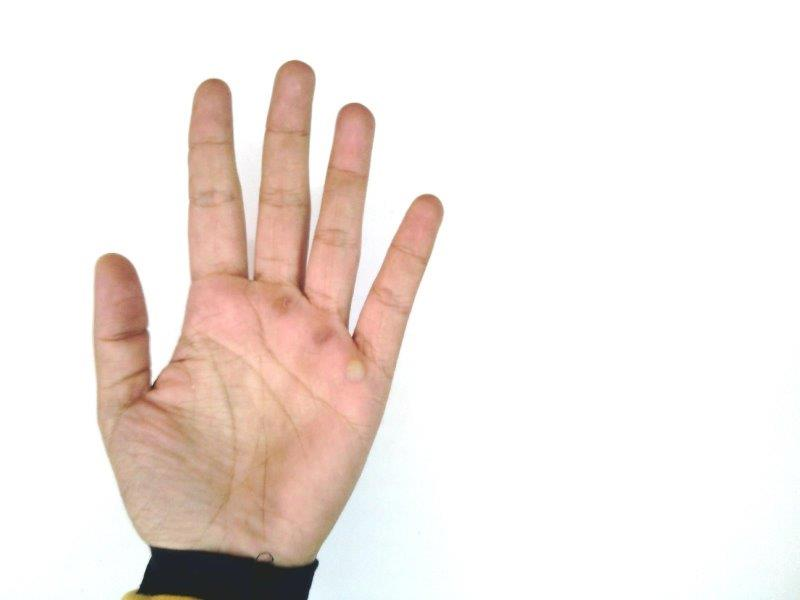hand: (95, 60, 445, 553)
